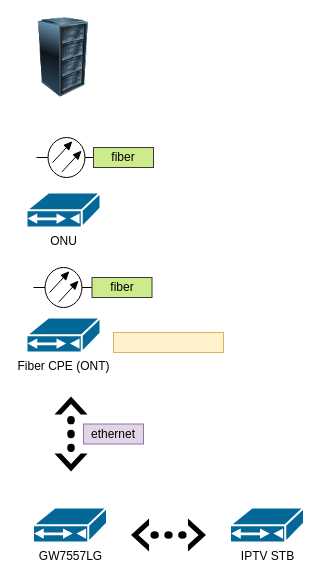
This 322x580 diagram has some shape labels left out. Here are the shapes that lost their labels. From the top down, the box of each, then its label:
(23, 17, 103, 97): OLT
(112, 332, 224, 352): No IGMP snooping
